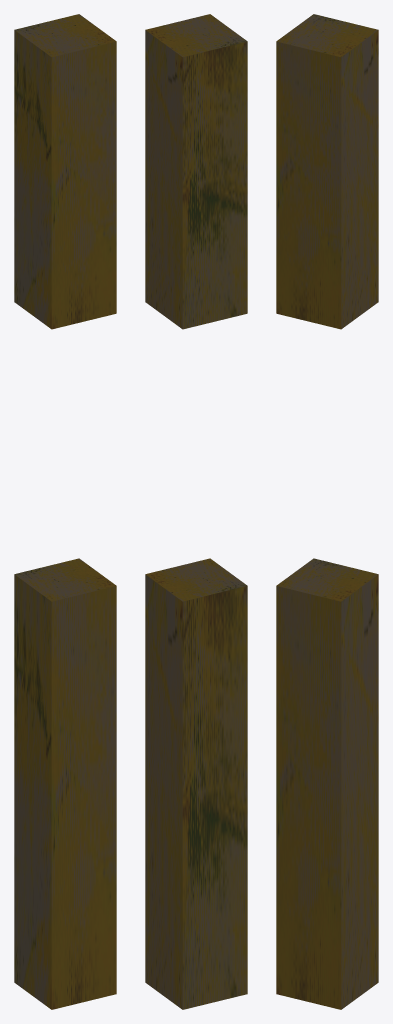
The model's file is obs5.glb.
The picture shows the model from 3 angles, left to right: view 1: azimuth 30°, elevation 25°; view 2: azimuth 210°, elevation 25°; view 3: azimuth 330°, elevation 25°; orthographic projection.
Parts seen in each view (by area): view 1: obs51; view 2: obs51; view 3: obs51.
Part boxes in pixels (x1=…): obs51: x1=14, y1=14, x2=116, y2=1009; obs51: x1=145, y1=14, x2=247, y2=1009; obs51: x1=276, y1=14, x2=378, y2=1009.
Bounding box in the file's own units: 1 × 14 × 1.
Materials: 1 (1 with a texture image).
